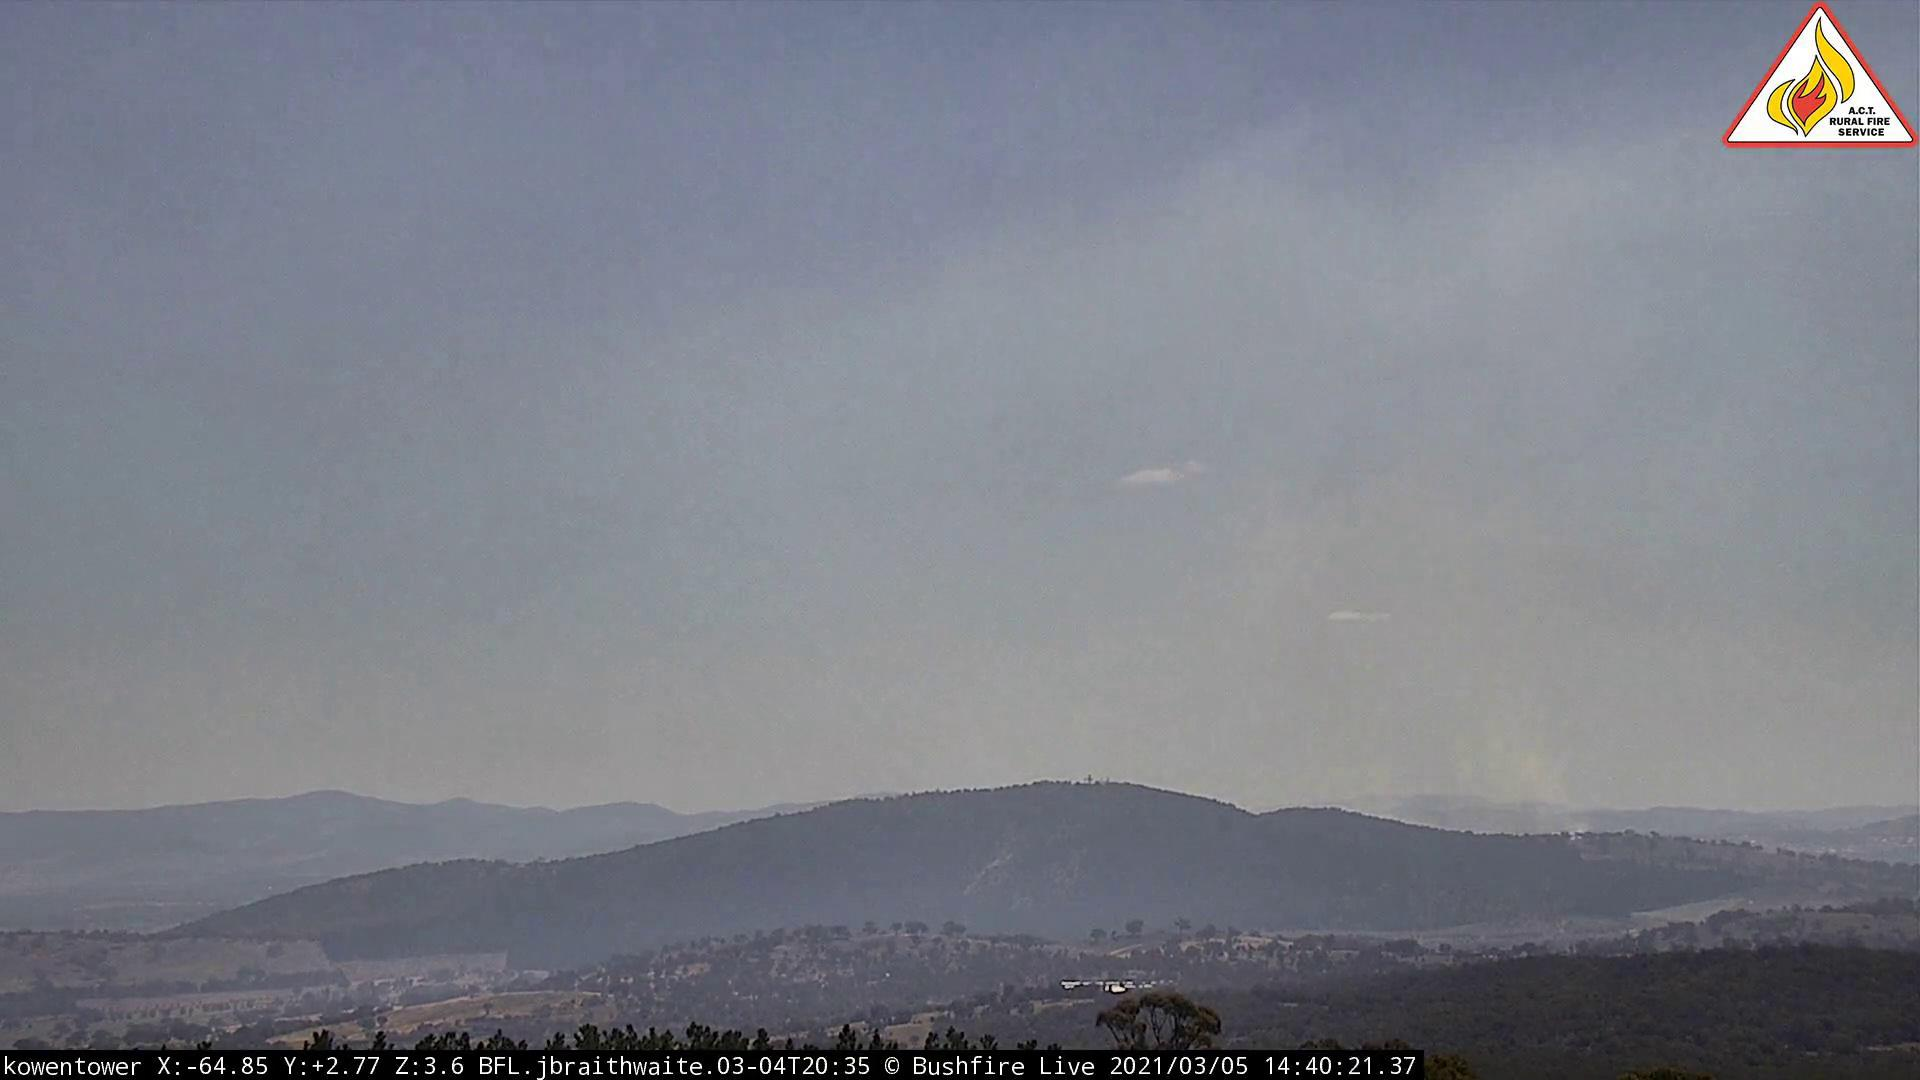Smoke: (1298, 498, 1598, 843)
